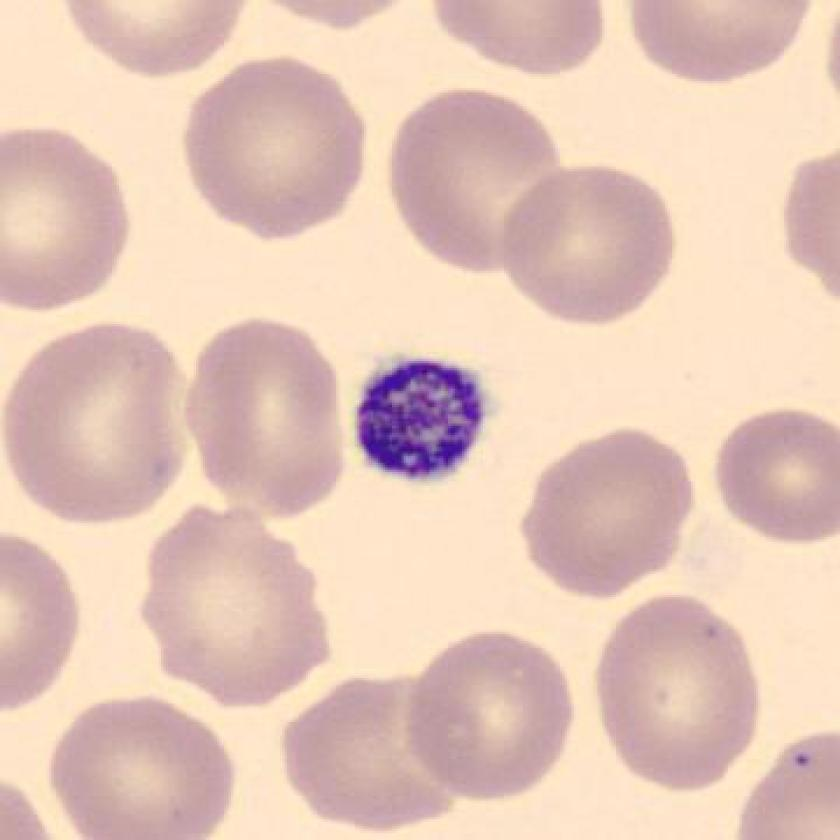platelets: (347, 350, 501, 494)
